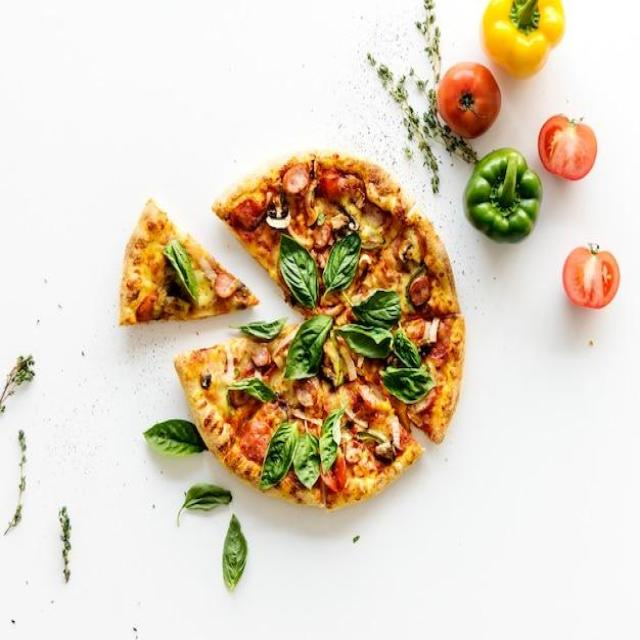basil: (278, 232, 318, 314), (284, 315, 334, 377), (324, 233, 362, 307), (259, 421, 299, 489), (140, 418, 210, 456), (175, 481, 232, 526), (220, 511, 250, 591), (162, 241, 198, 304), (321, 402, 350, 477), (380, 369, 437, 404), (352, 292, 402, 330), (339, 323, 394, 357), (230, 316, 290, 342), (295, 433, 321, 490), (228, 378, 280, 403), (393, 329, 422, 369)
pizza: (173, 154, 465, 512), (119, 194, 260, 324)
